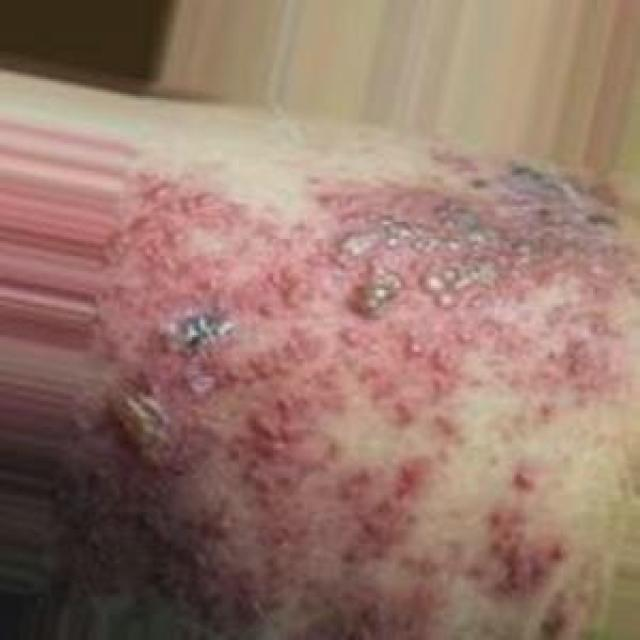Shingles: (76, 167, 614, 639)
